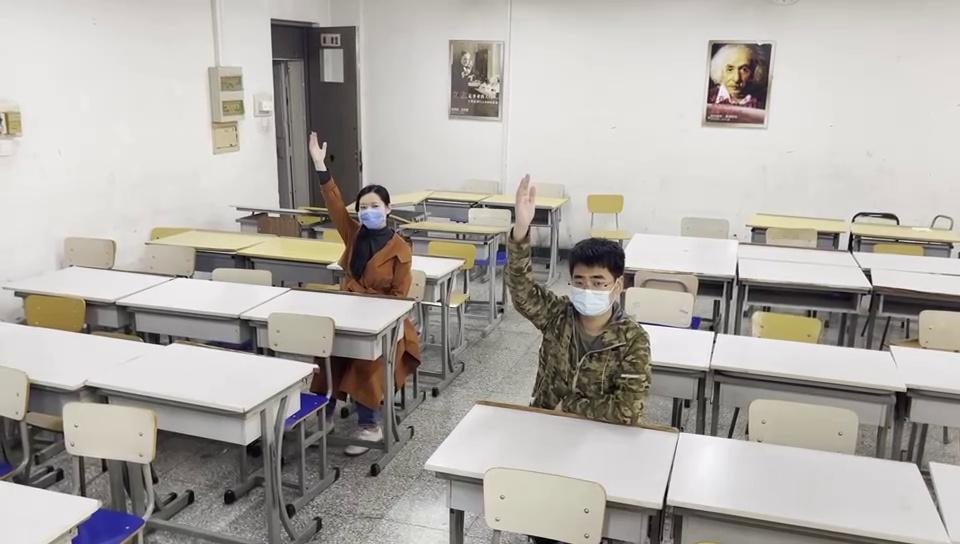study: (509, 180, 643, 408), (306, 132, 406, 289)
